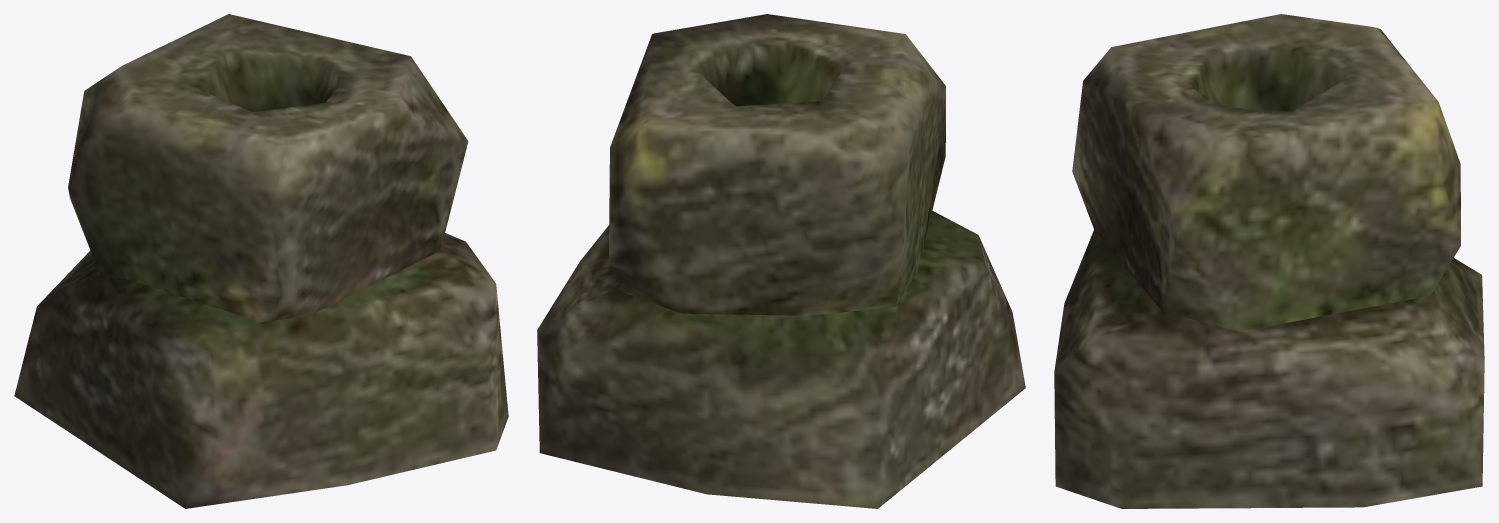
The model's file is Lantern_Floor_B-transformed.glb.
3 views of the same model, side by side, from view 1: azimuth 30°, elevation 25°; view 2: azimuth 150°, elevation 25°; view 3: azimuth 270°, elevation 25° (orthographic). The views are drawn at different scales.
Parts seen in each view (by area): view 1: default; view 2: default; view 3: default.
Part boxes in pixels (x1=…): default: x1=14, y1=14, x2=508, y2=508; default: x1=537, y1=14, x2=1025, y2=508; default: x1=1054, y1=14, x2=1484, y2=508.
Bounding box in the file's own units: 0.6447 × 0.5785 × 0.6533.
1 material, 1 textured.
